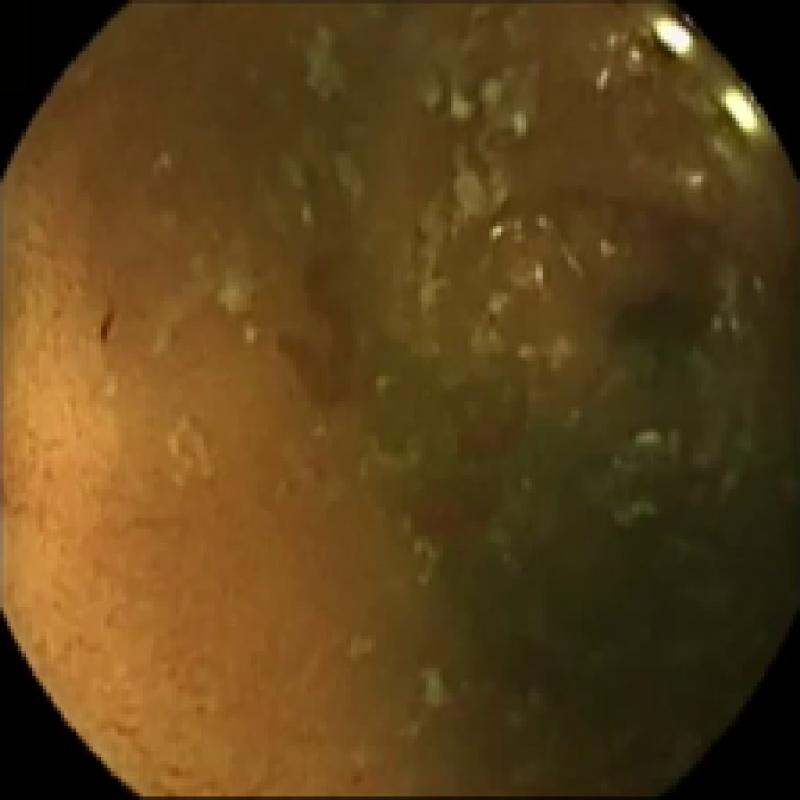bleeding: (417, 404, 526, 549), (285, 253, 347, 398), (614, 280, 710, 361), (92, 294, 123, 348)
